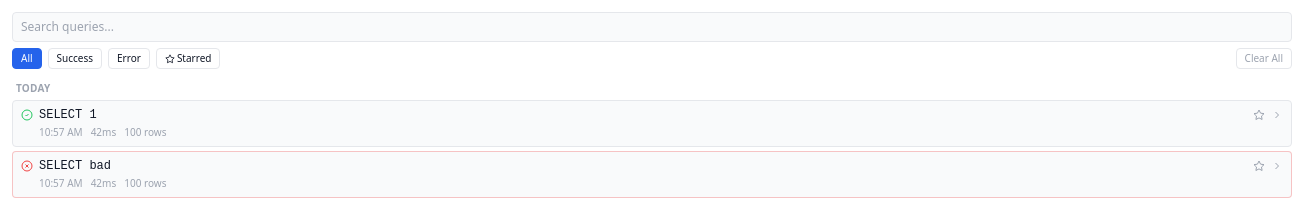
Test: QH-5: Status filter works (All/Success/Error) › filters to only error queries when Error filter is clicked
This screenshot has width=1304, height=215.
Step 1. Click the button with test id "query-history-filter-error" → click(129, 58), box 108,48 -> 150,69
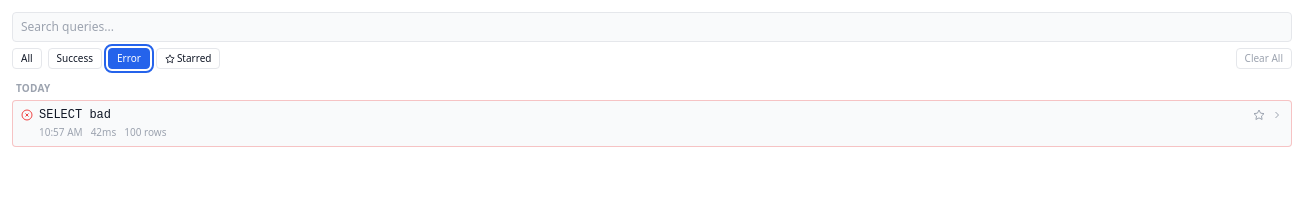
Expected: the icon with test id "status-icon-error" is shown, 21,109 -> 33,121
Now the number of elements with test id "query-history-entry" is 1, box 12,100 -> 1292,147
